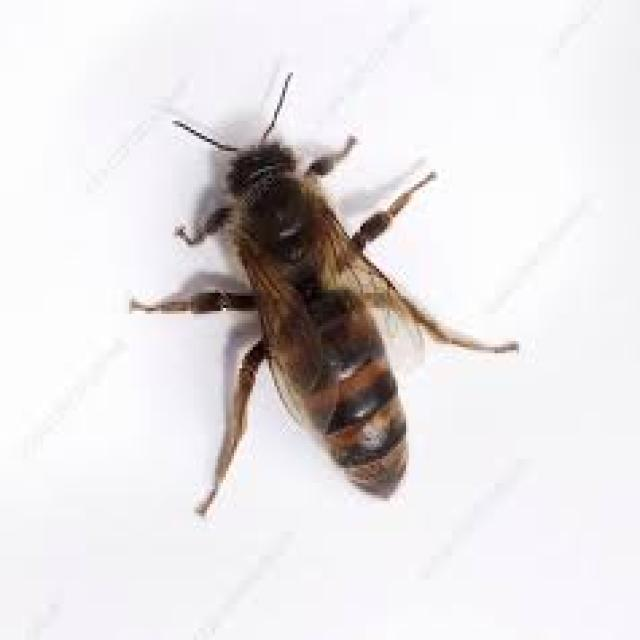Bees: (120, 66, 526, 532)
